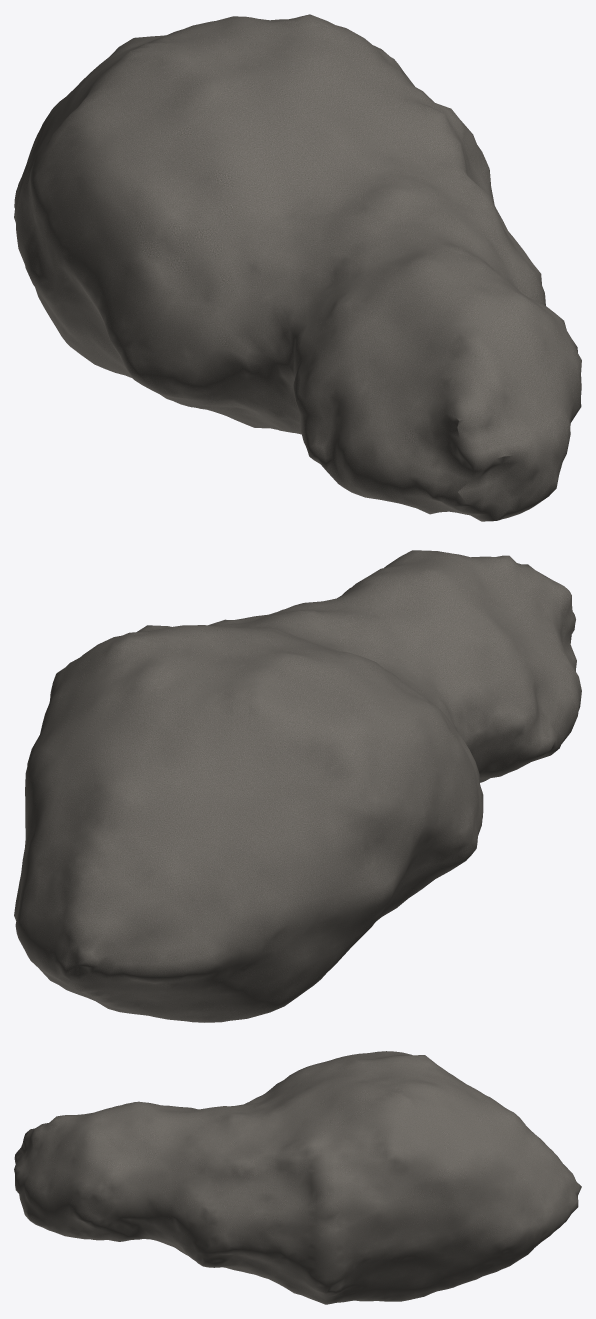
File: toutatis.glb
3 views of the same model, one above another, from view 1: azimuth 30°, elevation 25°; view 2: azimuth 150°, elevation 25°; view 3: azimuth 270°, elevation 25° (orthographic). The views are drawn at different scales.
Visible parts, largest first — view 1: Asteroid 4179 Toutatis; view 2: Asteroid 4179 Toutatis; view 3: Asteroid 4179 Toutatis.
Part boxes in pixels (x1,y1,x2,y2): Asteroid 4179 Toutatis: (14, 14, 581, 521); Asteroid 4179 Toutatis: (14, 550, 581, 1022); Asteroid 4179 Toutatis: (14, 1051, 581, 1304).
Bounding box in the file's own units: 2358 × 1980 × 4750.
Materials: 1 (1 with a texture image).
